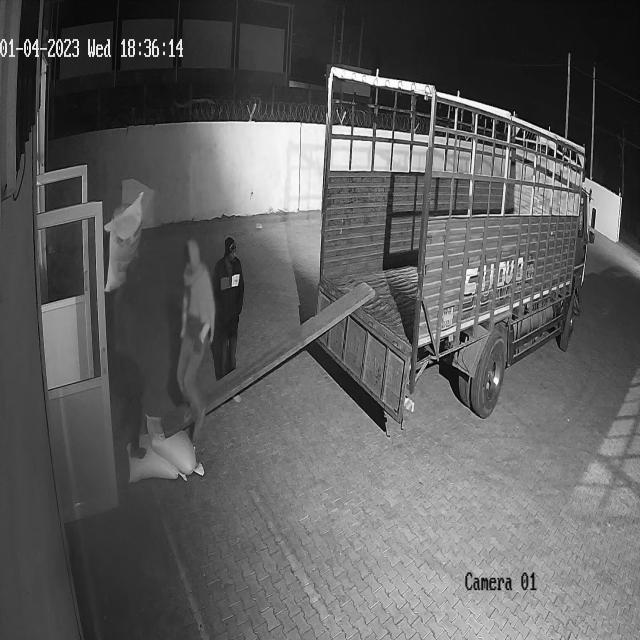sack: (105, 192, 144, 292), (145, 413, 206, 476), (126, 434, 187, 481)
